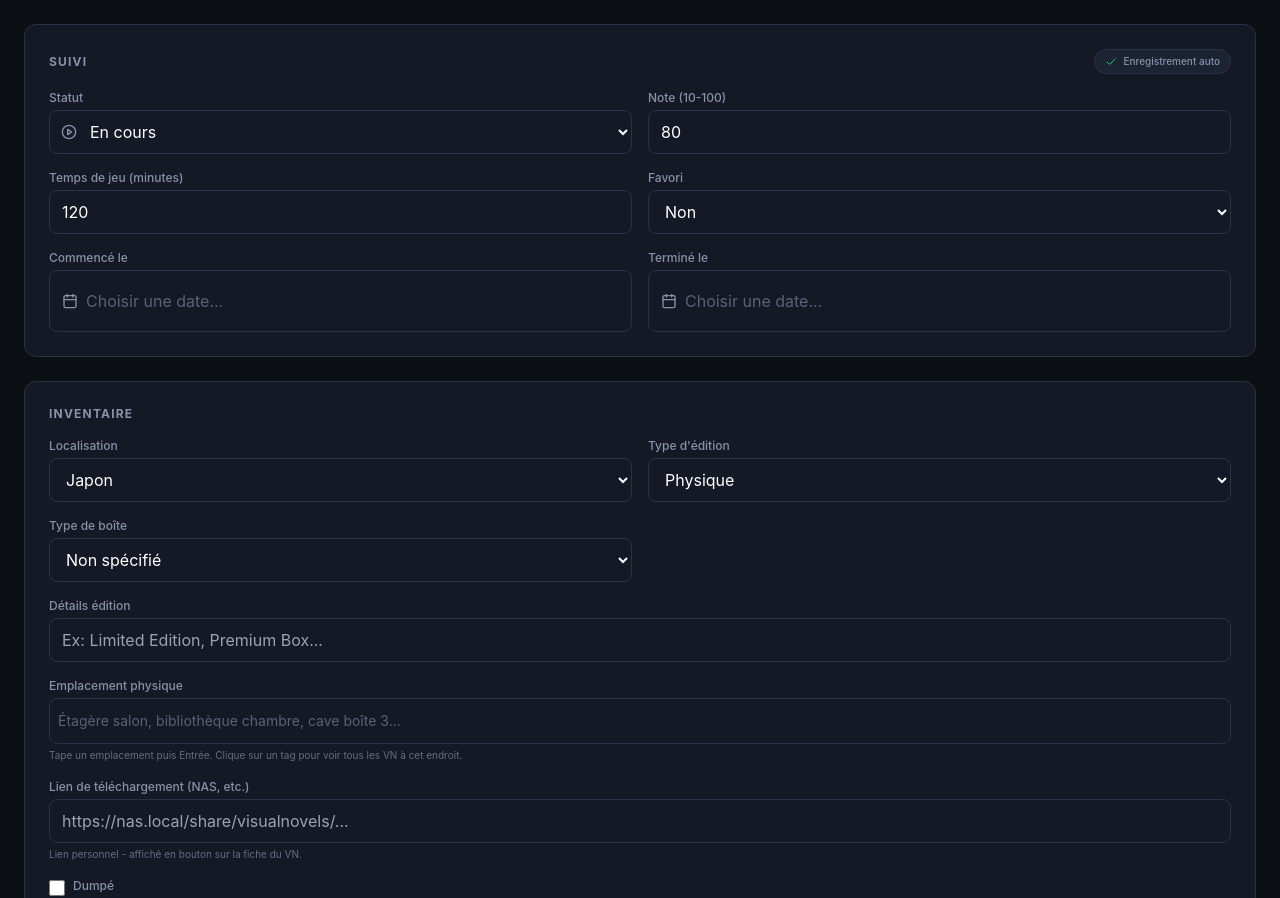
Test case: EditForm (in collection) › does not auto-save while the rating is invalid
Replace the text in the number field showing "80" with "5" at coordinates (940, 132), box [648, 110, 1231, 154]
Wait 900 ms
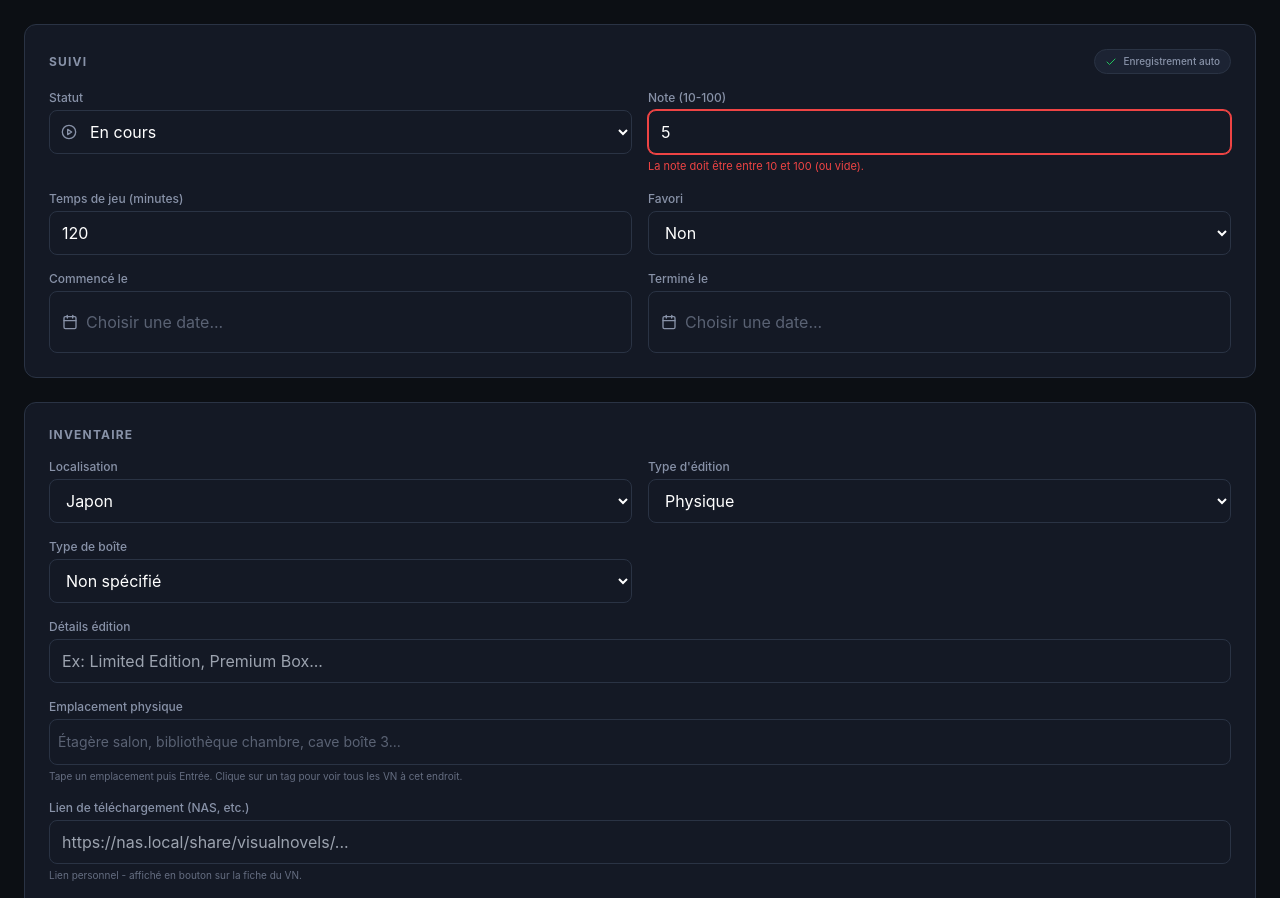
Check: the text "La note doit être entre 10 et 100 (ou vide)." is shown, box [648, 159, 864, 173]
